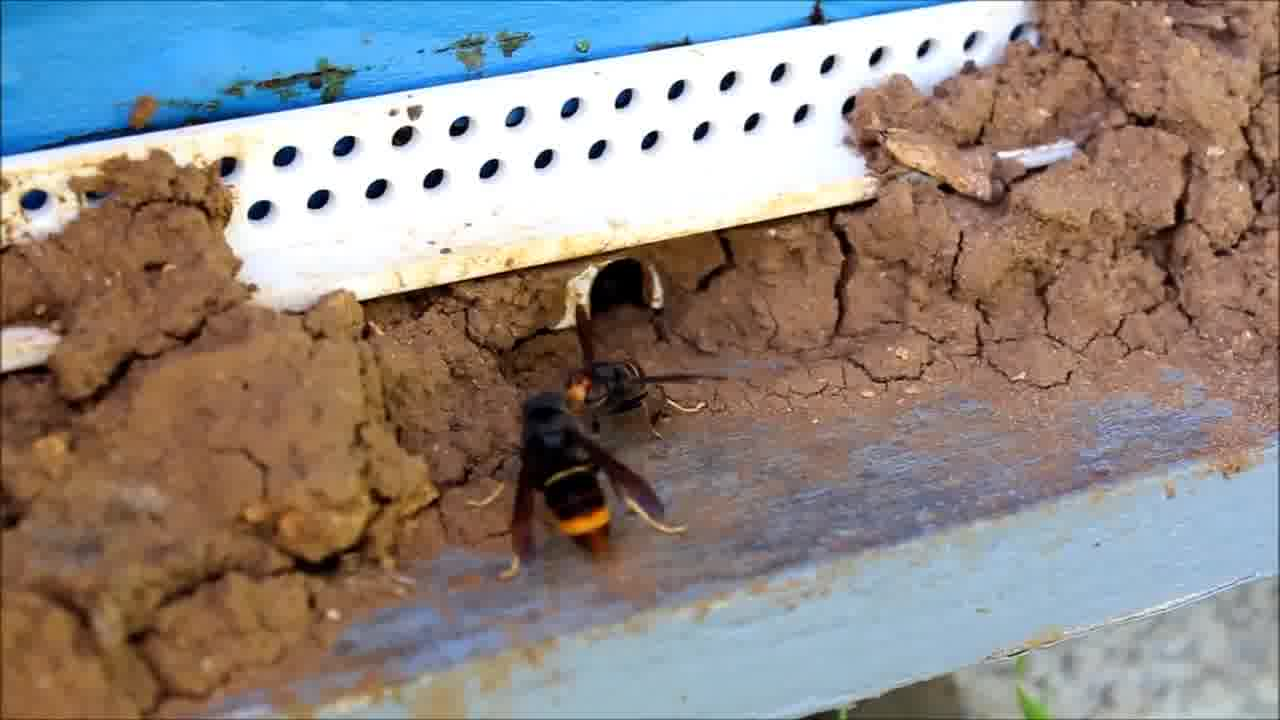hornet: (493, 392, 679, 578), (554, 322, 677, 438)
